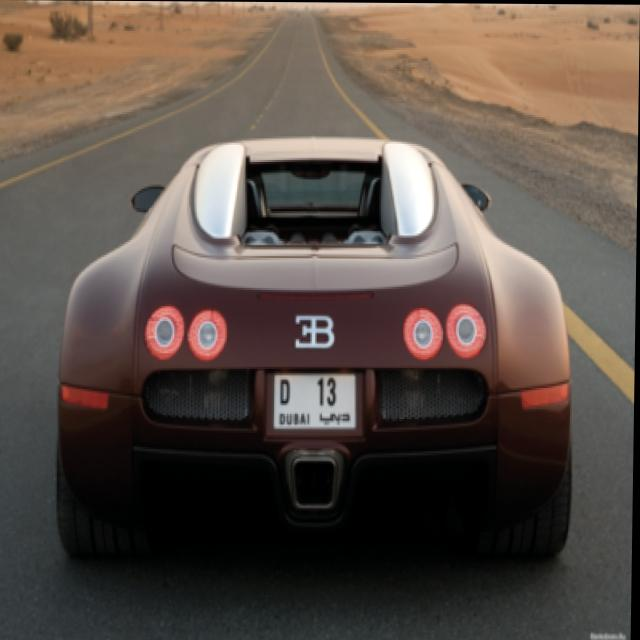licence: (274, 371, 359, 429)
